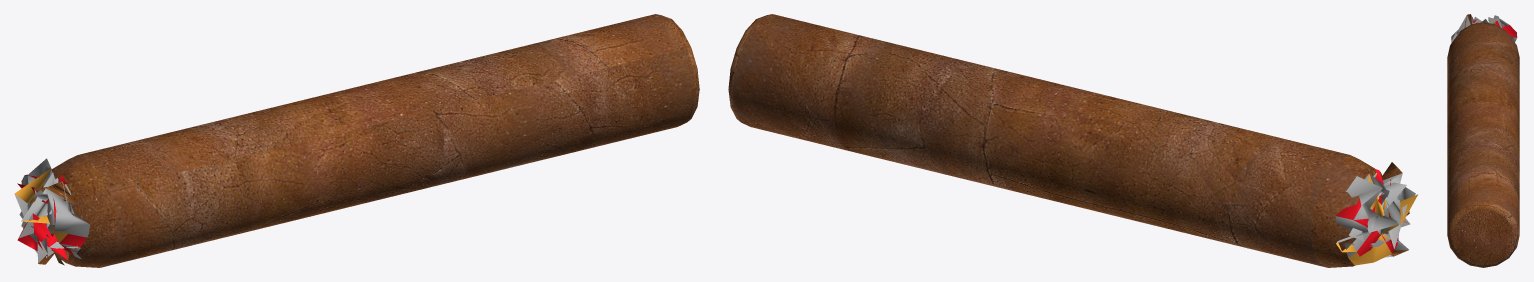
Rendered from cigar.fbx.
The picture shows the model from 3 angles, left to right: view 1: azimuth 30°, elevation 25°; view 2: azimuth 150°, elevation 25°; view 3: azimuth 270°, elevation 25°; orthographic projection. The views are drawn at different scales.
Visible parts, largest first — view 1: Cigar body, Burning tip; view 2: Cigar body, Burning tip; view 3: Cigar body, Burning tip.
Part boxes in pixels (<box>): Cigar body: <box>42,14,699,267</box>; Burning tip: <box>14,158,89,265</box>; Cigar body: <box>728,14,1382,267</box>; Burning tip: <box>1335,162,1417,265</box>; Cigar body: <box>1447,22,1519,267</box>; Burning tip: <box>1451,14,1517,42</box>.
Bounding box in the file's own units: 12.34 × 1.9 × 1.9.
